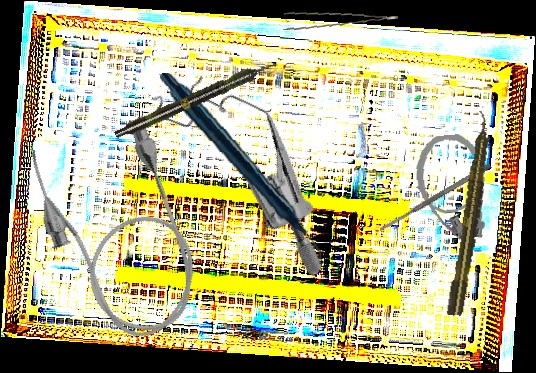Cannula: (17, 108, 220, 358), (412, 132, 492, 260)
Handpiece: (159, 61, 323, 276), (112, 57, 279, 142), (445, 110, 496, 318)
Spatula Surgical: (377, 162, 493, 233)
Speculum: (111, 57, 375, 281)
Tissue Forceps: (282, 6, 399, 40)
